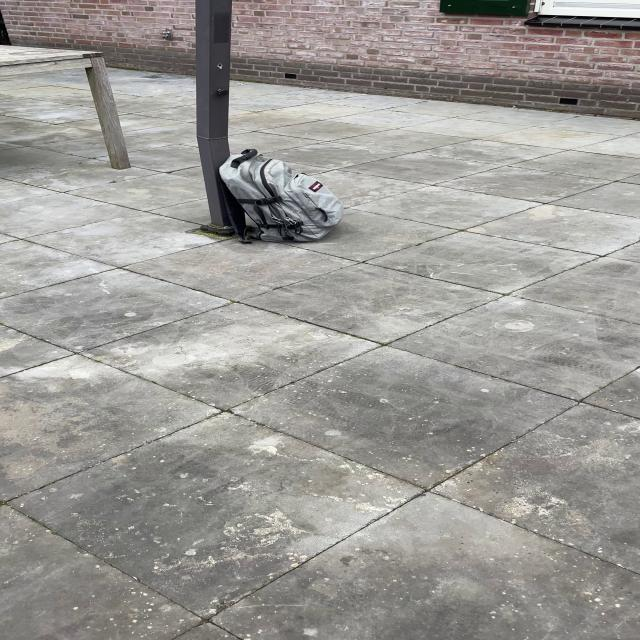backpack: (211, 147, 350, 246)
